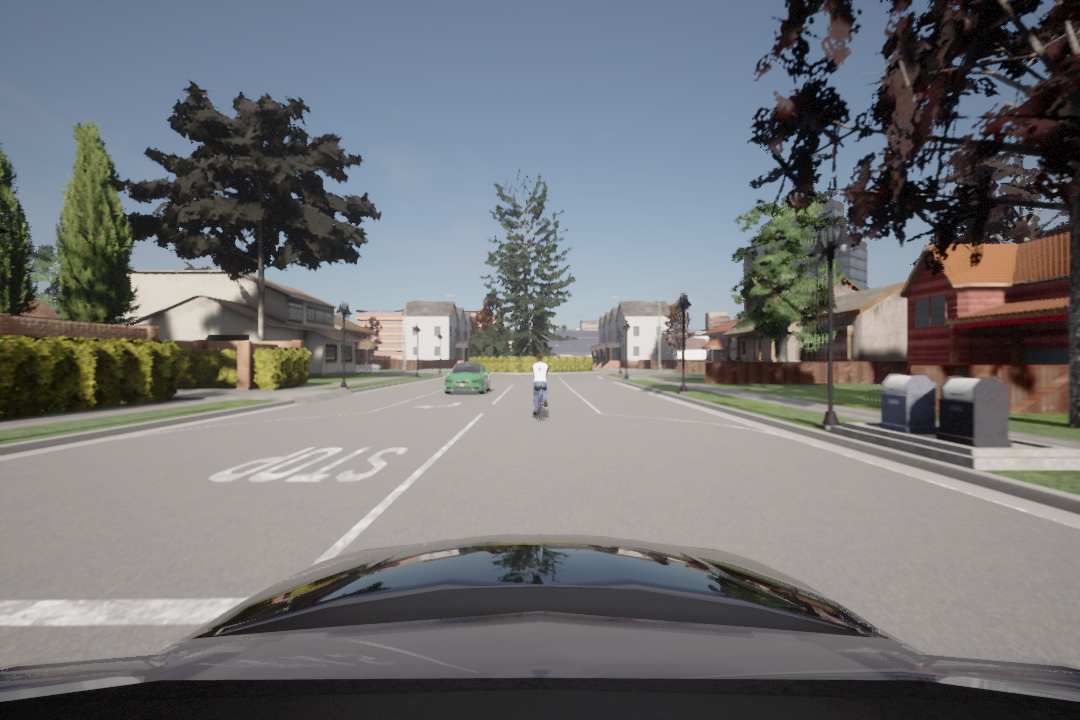RoadSign_left: (411, 397, 464, 411)
